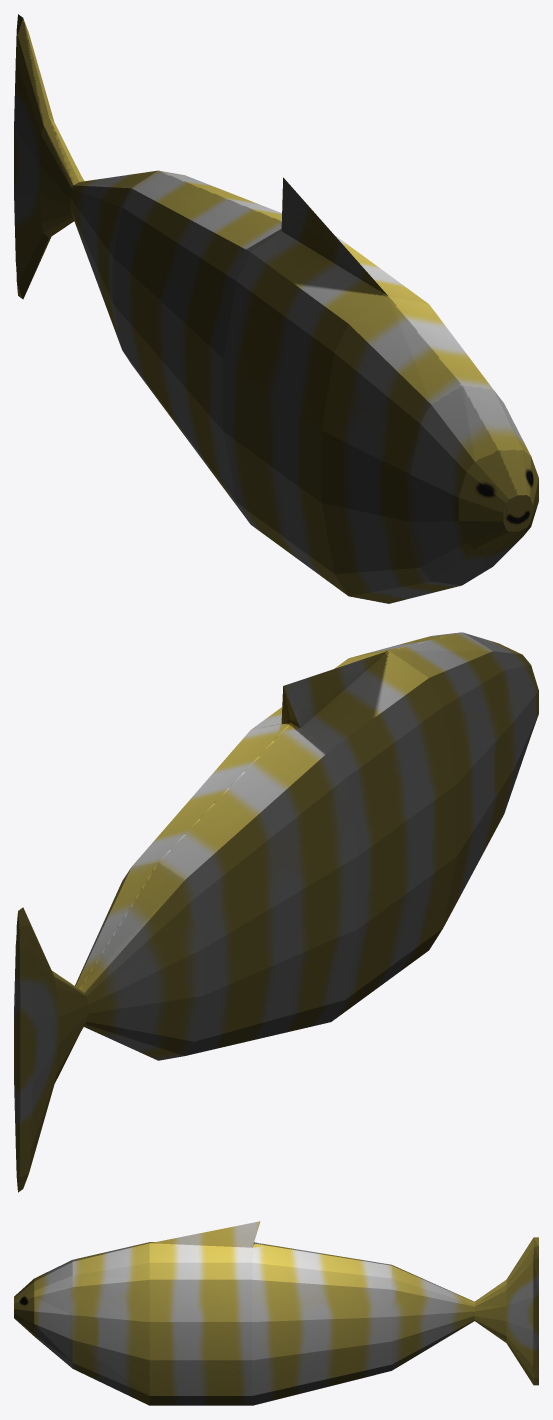
File: ryba.obj
3 views of the same model, one above another, from view 1: azimuth 30°, elevation 25°; view 2: azimuth 150°, elevation 25°; view 3: azimuth 270°, elevation 25° (orthographic). The views are drawn at different scales.
Parts seen in each view (by area): view 1: Cube; view 2: Cube; view 3: Cube.
Part boxes in pixels (x1,y1,x2,y2): Cube: (14, 14, 538, 603); Cube: (14, 632, 538, 1192); Cube: (14, 1221, 538, 1405).
Bounding box in the file's own units: 1.59 × 3.94 × 10.22.
Materials: 1 (1 with a texture image).
